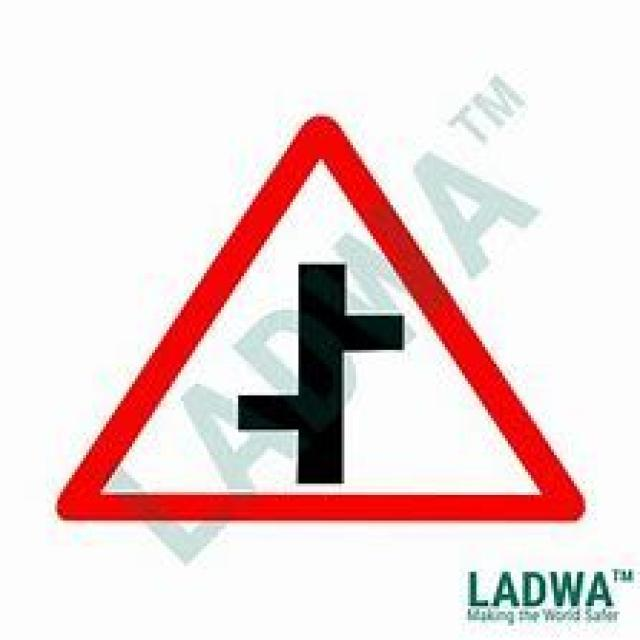staggered intersection: (55, 99, 597, 531)
